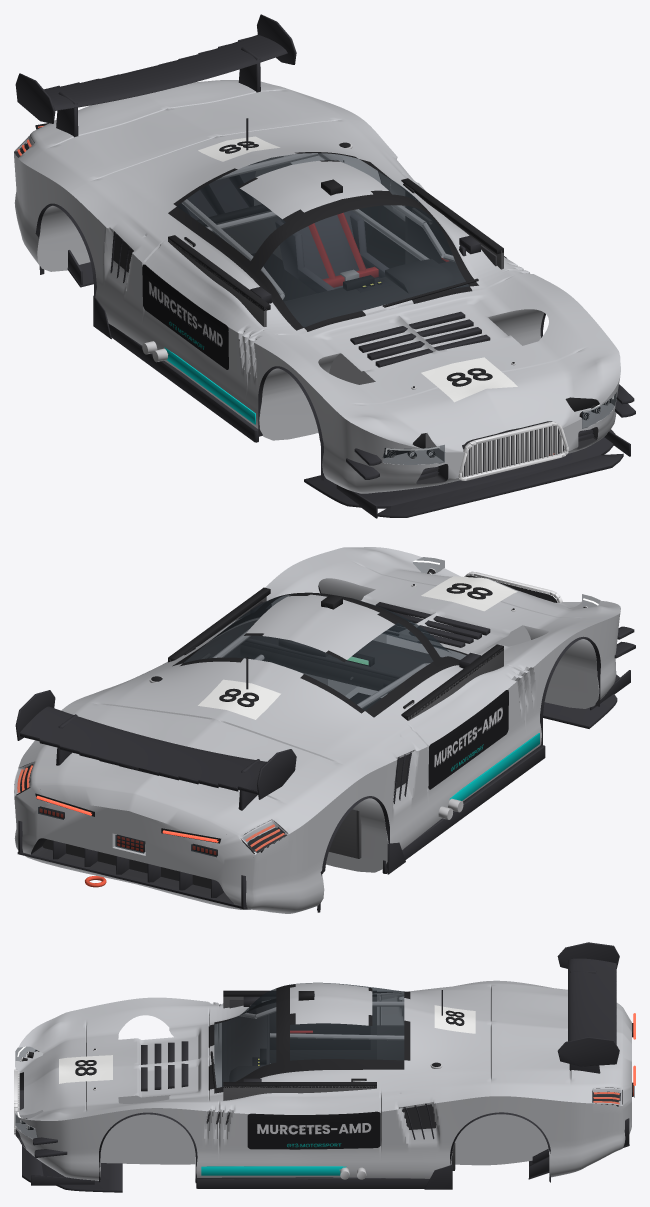
File: murcetes_amd_gt3.glb
The picture shows the model from 3 angles, top to bottom: view 1: azimuth 30°, elevation 25°; view 2: azimuth 150°, elevation 25°; view 3: azimuth 270°, elevation 25°; orthographic projection. The views are drawn at different scales.
Parts seen in each view (by area): view 1: murcetes_amd_gt3; view 2: murcetes_amd_gt3; view 3: murcetes_amd_gt3.
Boxes of the visible parts, left/top/right/bottom form: murcetes_amd_gt3: left=14, top=14, right=635, bottom=518; murcetes_amd_gt3: left=14, top=547, right=635, bottom=913; murcetes_amd_gt3: left=14, top=942, right=635, bottom=1192.
Bounding box in the file's own units: 2.21 × 1.27 × 4.85.
25 materials, 1 textured.
